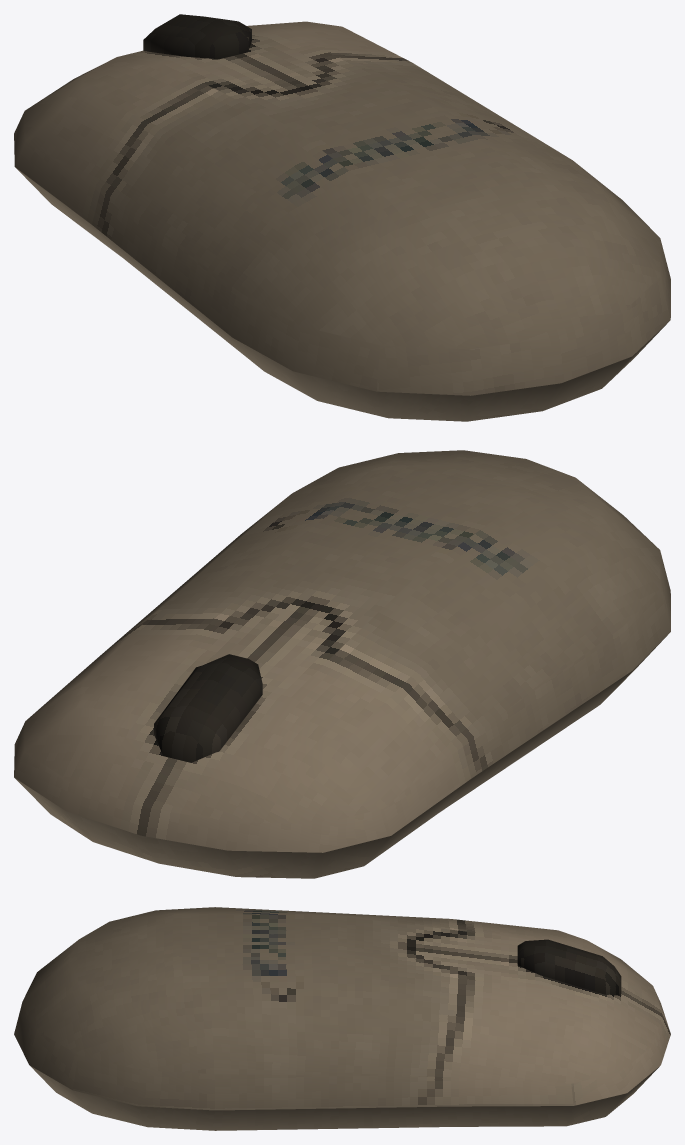
The model's file is pc_mouse_mp_1.glb.
3 renders of one model, top to bottom at view 1: azimuth 30°, elevation 25°; view 2: azimuth 150°, elevation 25°; view 3: azimuth 270°, elevation 25°, orthographic. The views are drawn at different scales.
Parts seen in each view (by area): view 1: pc_mouse_mp_1; view 2: pc_mouse_mp_1; view 3: pc_mouse_mp_1.
Part boxes in pixels (x1,y1,x2,y2): pc_mouse_mp_1: (14, 14, 670, 421); pc_mouse_mp_1: (14, 450, 670, 878); pc_mouse_mp_1: (14, 907, 670, 1130).
Size of the model in its own units: 0.0809 by 0.0315 by 0.1475.
Materials: 1 (1 with a texture image).
